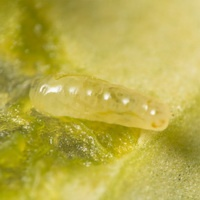insect: (29, 74, 169, 130)
